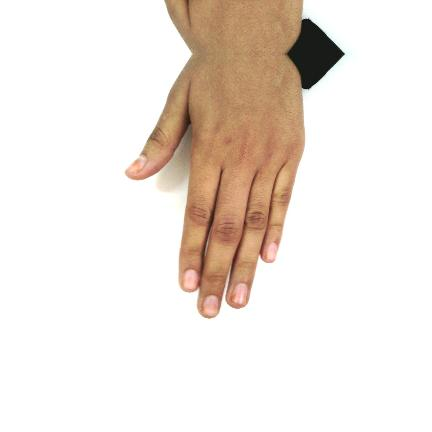Nail: (125, 154, 147, 173), (201, 295, 219, 317), (230, 284, 248, 305), (181, 269, 197, 290), (266, 243, 278, 261)
